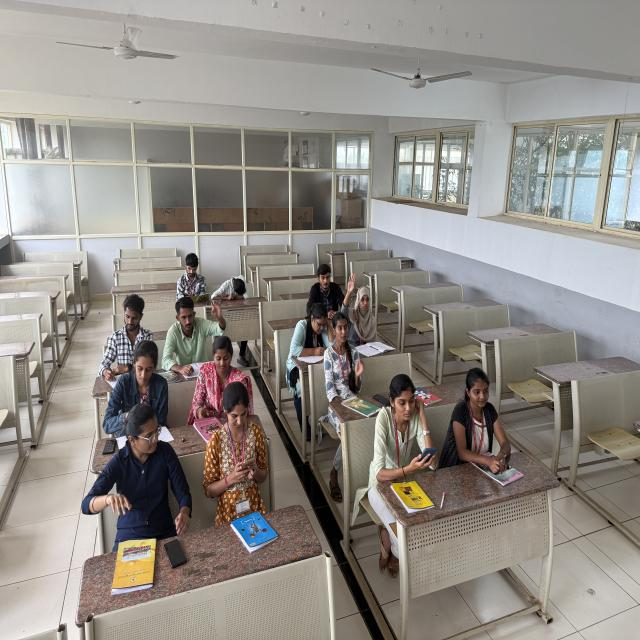Hand Rising: (154, 297, 240, 366), (339, 268, 393, 358)
Reading: (173, 237, 213, 308)
Sleeping: (208, 258, 266, 305)
Using Phone: (190, 378, 297, 559), (356, 368, 459, 548)
Writing: (277, 301, 339, 365)
